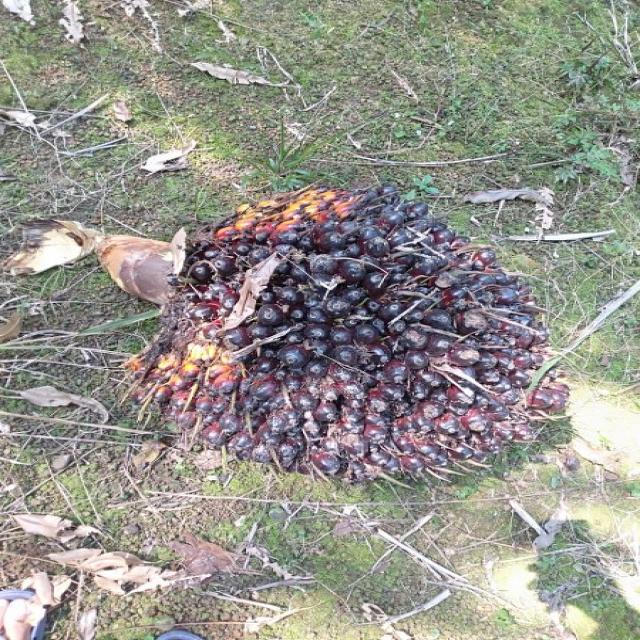fraksi 00: (82, 181, 567, 487)
